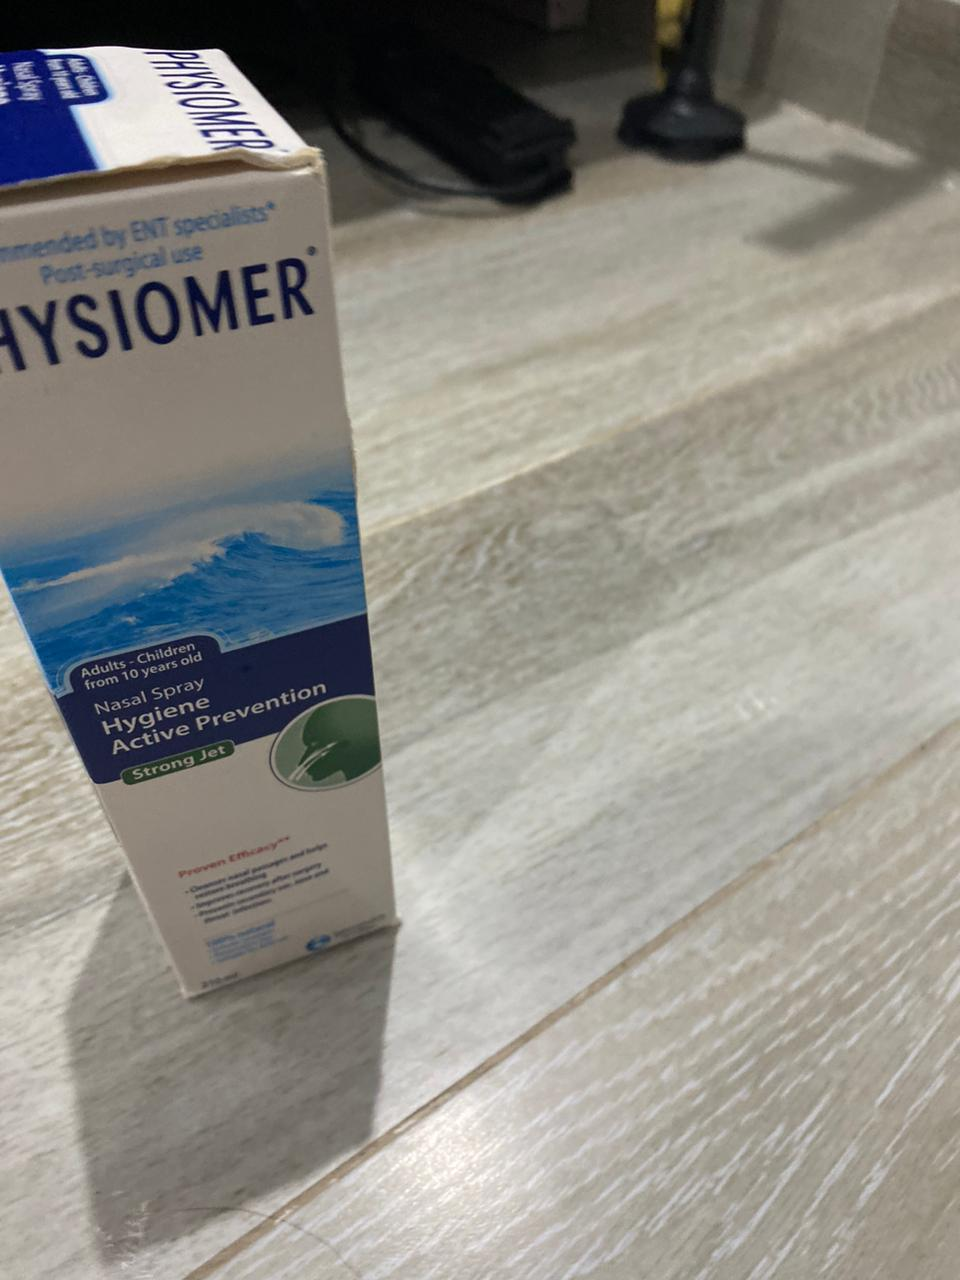Physiomer: (5, 38, 419, 1007)
